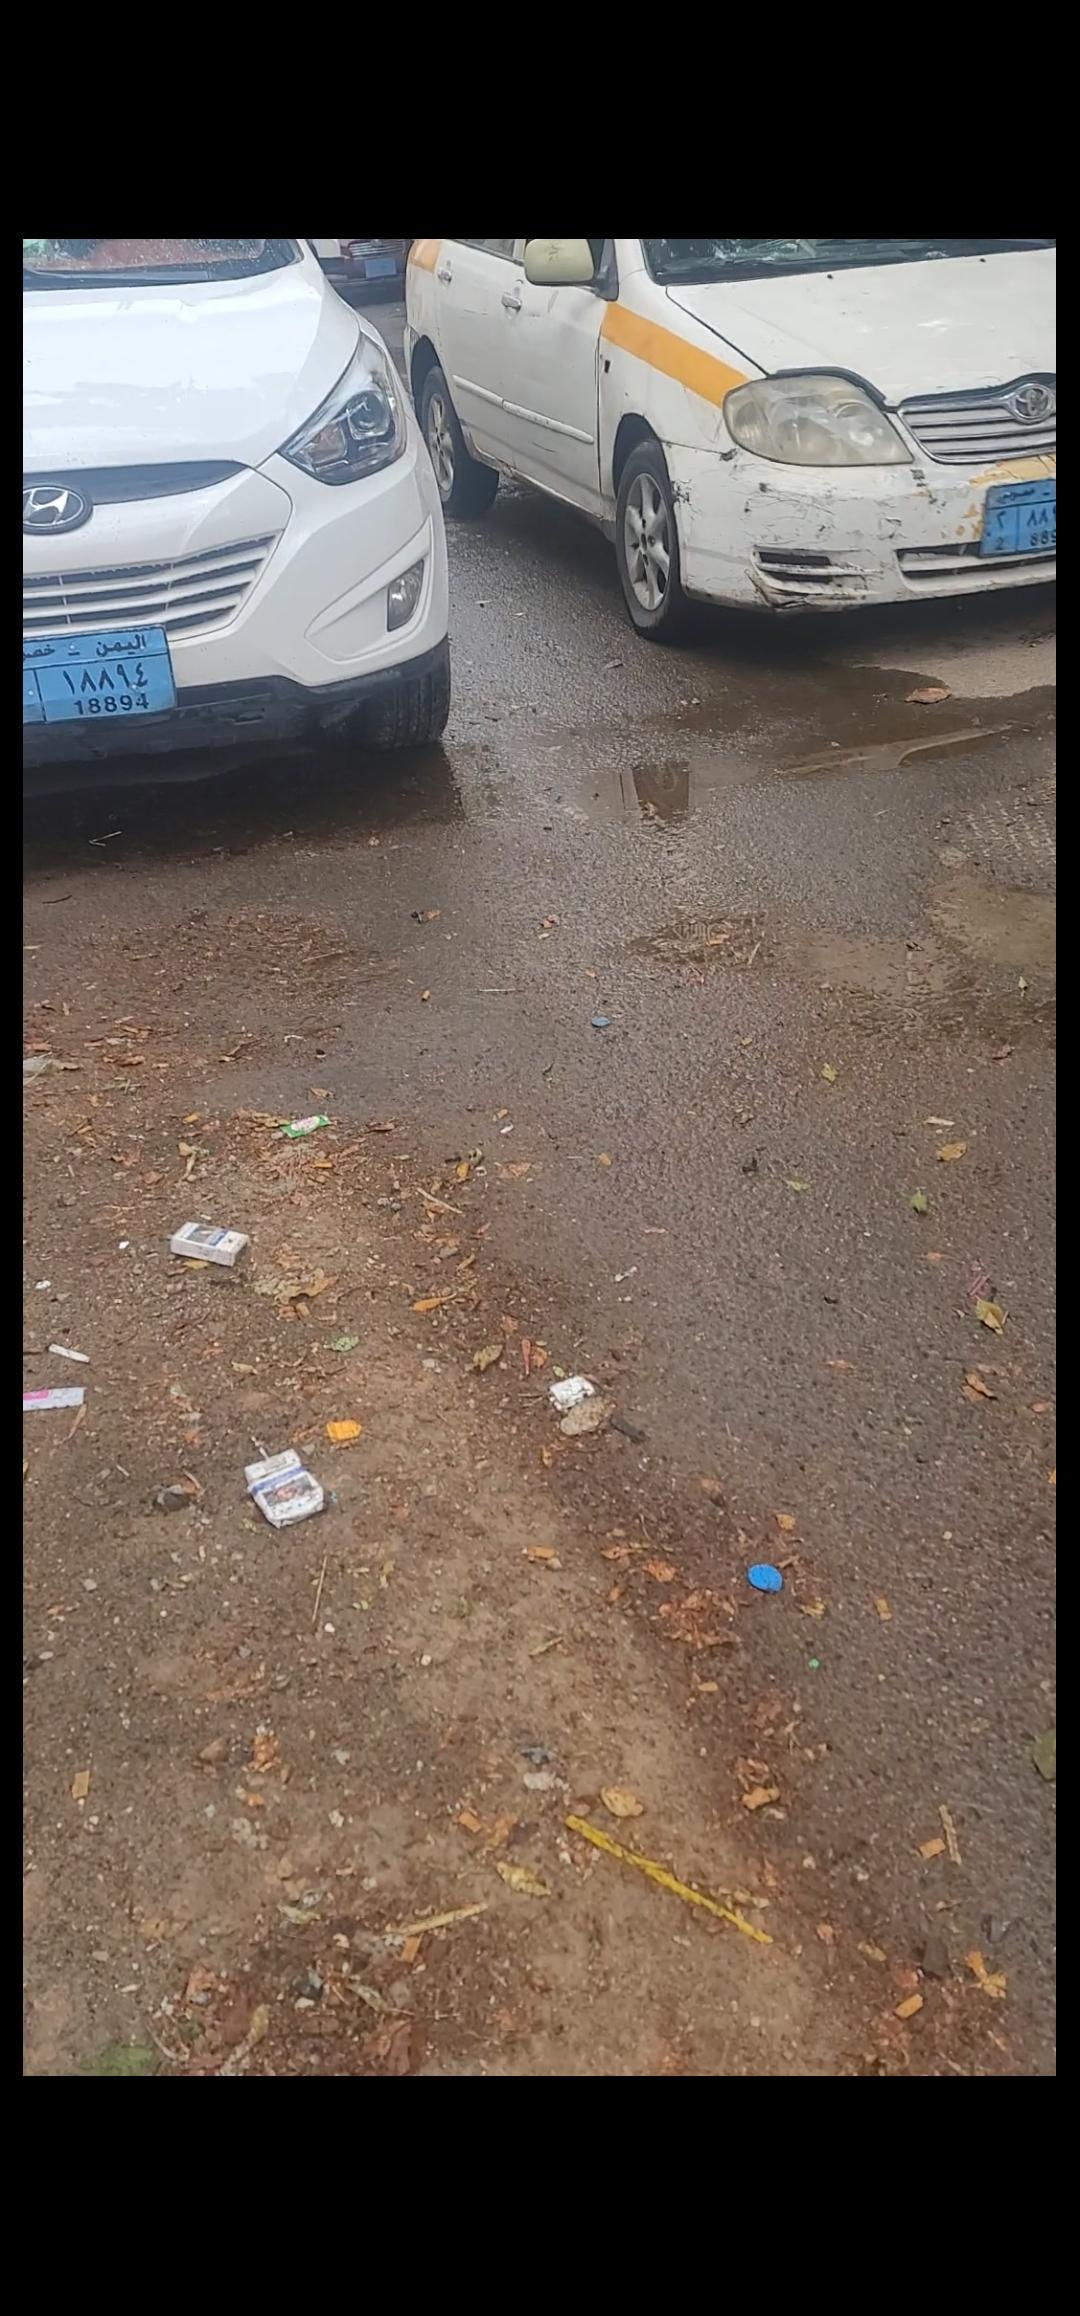privte: (23, 626, 177, 724), (986, 479, 1056, 555)
